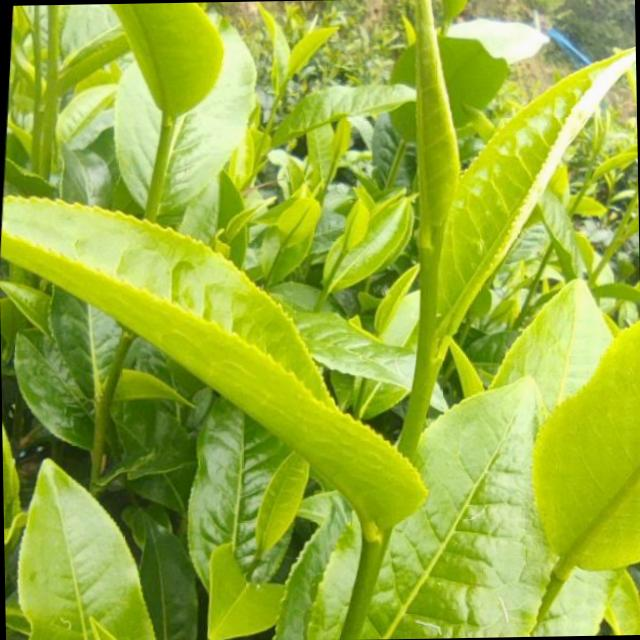Stem: (408, 356, 442, 408), (577, 183, 589, 198), (335, 251, 346, 264), (272, 97, 280, 110)
